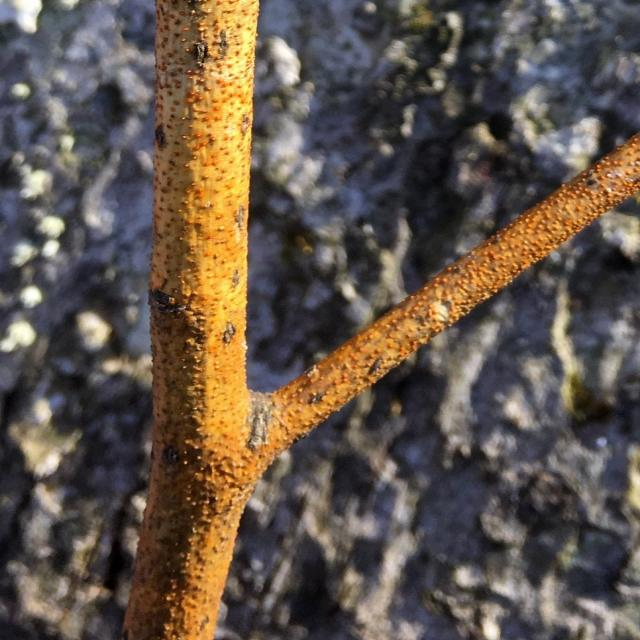Golden_canker: (116, 0, 637, 638)
